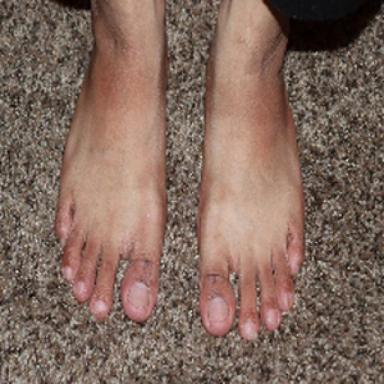normal skin: (199, 0, 304, 339), (56, 0, 165, 322)
